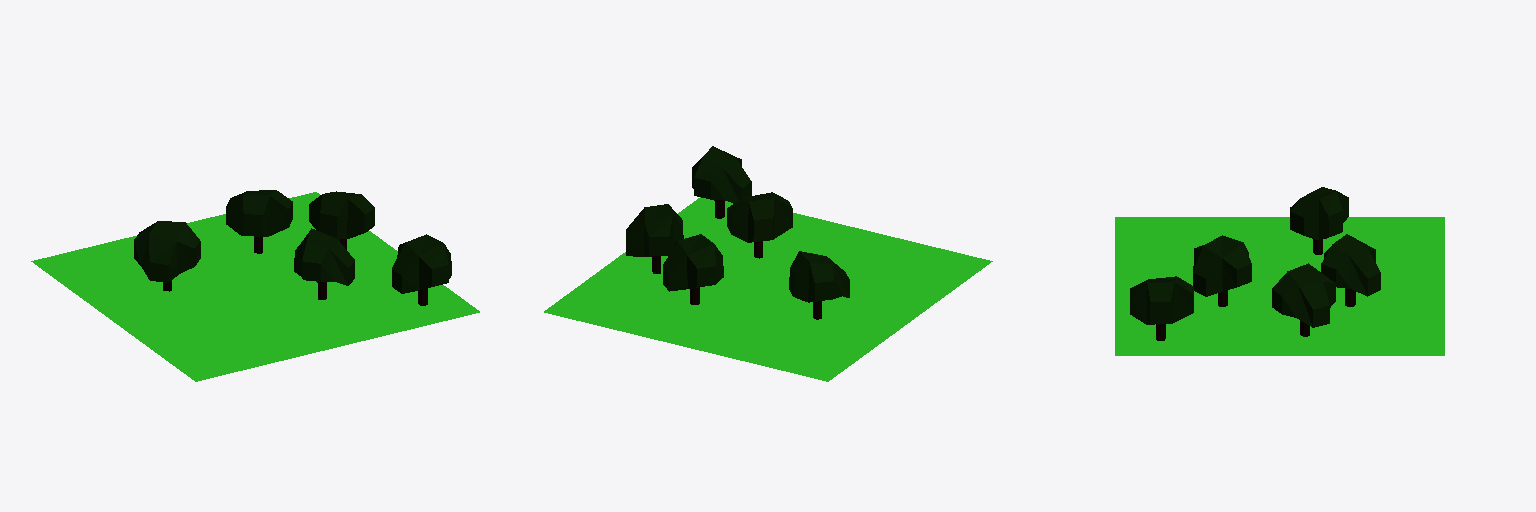
Rendered from Mapa.obj.
3 renders of one model, left to right at view 1: azimuth 30°, elevation 25°; view 2: azimuth 150°, elevation 25°; view 3: azimuth 270°, elevation 25°, orthographic.
Visible parts, largest first — view 1: Plano, Tronco.002, Tronco, Tronco.003, Tronco.004, Tronco.001; view 2: Plano, Tronco.003, Tronco.001, Tronco, Tronco.002, Tronco.004; view 3: Plano, Tronco.004, Tronco.001, Tronco, Tronco.003, Tronco.002.
Boxes of the visible parts, x1,y1,x2,y2 form: Plano: [31, 192, 479, 381]; Tronco.002: [134, 221, 200, 282]; Tronco: [392, 234, 451, 293]; Tronco.003: [226, 190, 292, 236]; Tronco.004: [309, 191, 374, 238]; Tronco.001: [294, 228, 354, 285]; Plano: [544, 197, 992, 381]; Tronco.003: [663, 234, 723, 291]; Tronco.001: [727, 192, 792, 242]; Tronco: [692, 146, 751, 203]; Tronco.002: [789, 251, 849, 302]; Tronco.004: [626, 204, 683, 256]; Plano: [1115, 217, 1444, 355]; Tronco.004: [1272, 263, 1335, 327]; Tronco.001: [1193, 235, 1251, 296]; Tronco: [1130, 276, 1193, 324]; Tronco.003: [1321, 234, 1380, 296]; Tronco.002: [1290, 187, 1348, 240].
Bounding box in the file's own units: 12.13 × 2.59 × 12.13.